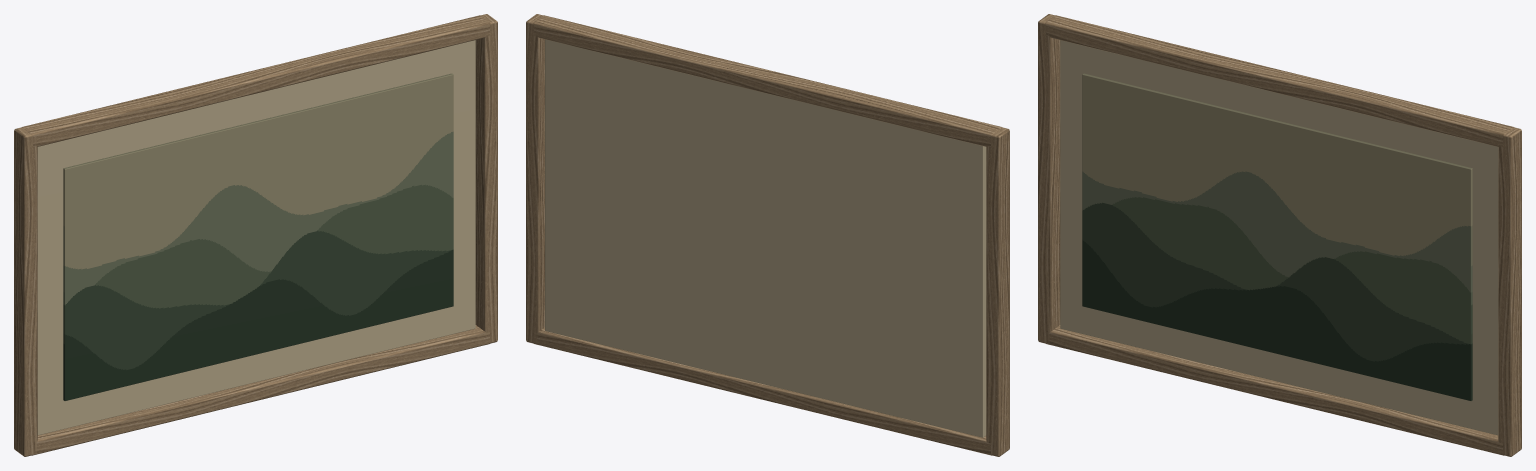
The model's file is poker-landscape.glb.
3 views of the same model, side by side, from view 1: azimuth 30°, elevation 25°; view 2: azimuth 150°, elevation 25°; view 3: azimuth 330°, elevation 25° (orthographic).
Visible parts, largest first — view 1: poker-landscape - Poker original landscape painting, poker-landscape - Poker linen picture mount, poker-landscape - Poker satin walnut joinery; view 2: poker-landscape - Poker linen picture mount, poker-landscape - Poker satin walnut joinery; view 3: poker-landscape - Poker original landscape painting, poker-landscape - Poker linen picture mount, poker-landscape - Poker satin walnut joinery.
Boxes of the visible parts, left/top/right/bottom form: poker-landscape - Poker original landscape painting: left=63, top=73, right=453, bottom=400; poker-landscape - Poker linen picture mount: left=37, top=40, right=475, bottom=435; poker-landscape - Poker satin walnut joinery: left=14, top=14, right=497, bottom=456; poker-landscape - Poker linen picture mount: left=545, top=39, right=986, bottom=437; poker-landscape - Poker satin walnut joinery: left=526, top=14, right=1009, bottom=456; poker-landscape - Poker original landscape painting: left=1082, top=73, right=1472, bottom=400; poker-landscape - Poker linen picture mount: left=1060, top=40, right=1498, bottom=435; poker-landscape - Poker satin walnut joinery: left=1038, top=14, right=1521, bottom=456.
Size of the model in its own units: 0.865 by 0.561 by 0.035.
Materials: 3 (2 with a texture image).
